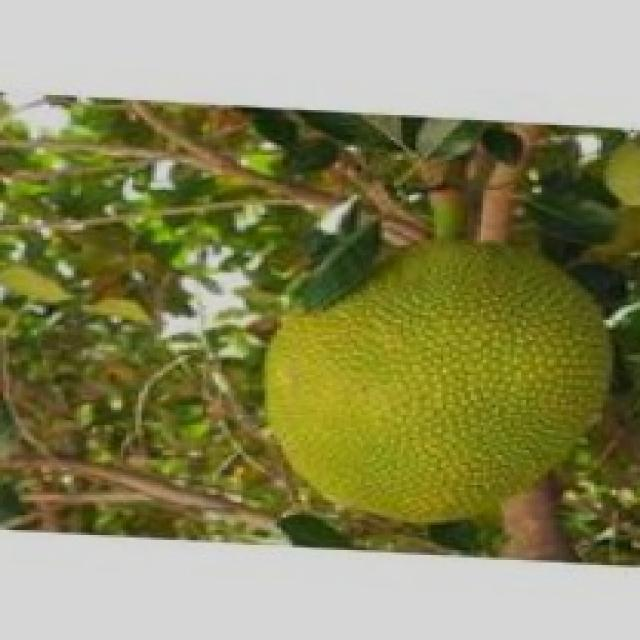Fruit: (246, 225, 631, 543)
